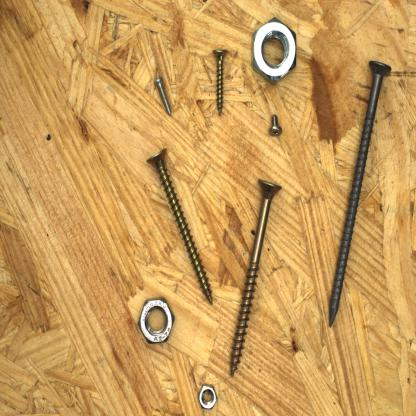screw: (327, 52, 394, 328), (143, 141, 217, 306), (228, 173, 283, 380), (209, 46, 230, 118), (152, 73, 174, 119), (266, 111, 286, 141)
